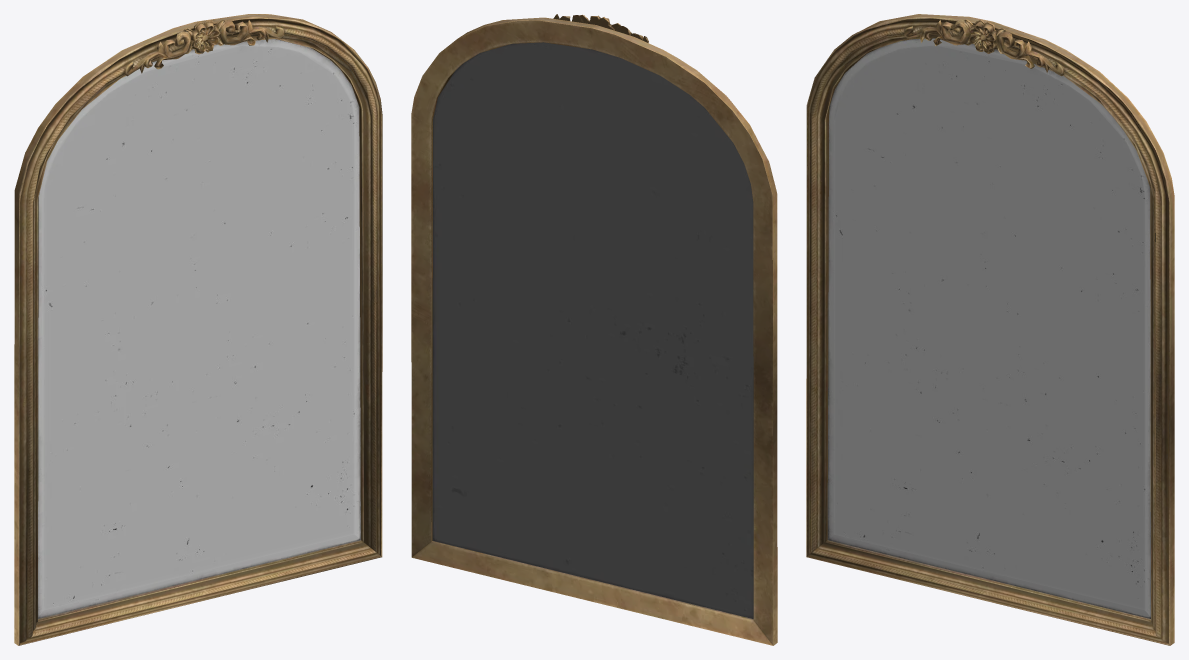
File: ornate_mirror_01.glb
The picture shows the model from 3 angles, left to right: view 1: azimuth 30°, elevation 25°; view 2: azimuth 150°, elevation 25°; view 3: azimuth 330°, elevation 25°; orthographic projection.
Parts seen in each view (by area): view 1: ornate_mirror_01; view 2: ornate_mirror_01; view 3: ornate_mirror_01.
Part boxes in pixels (left/top/right/bottom): ornate_mirror_01: left=14, top=14, right=382, bottom=645; ornate_mirror_01: left=411, top=14, right=777, bottom=645; ornate_mirror_01: left=806, top=14, right=1174, bottom=645.
Size of the model in its own units: 0.486 by 0.7437 by 0.026.
1 material, 1 textured.
